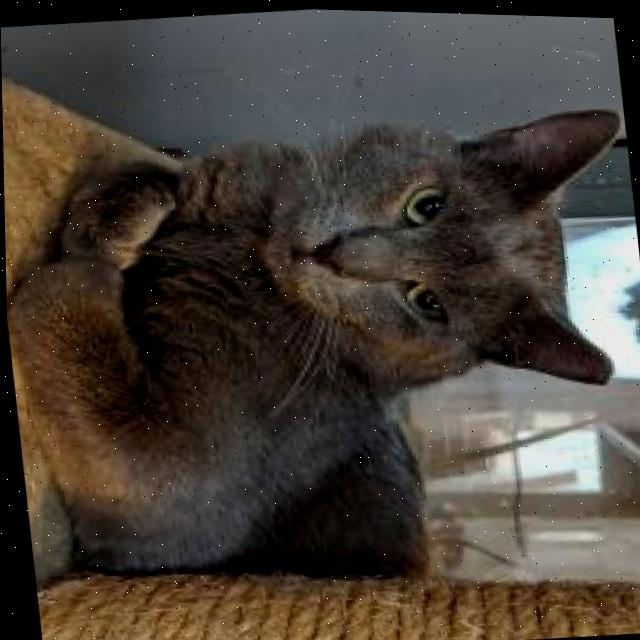Russian Blue: (2, 86, 640, 615)
